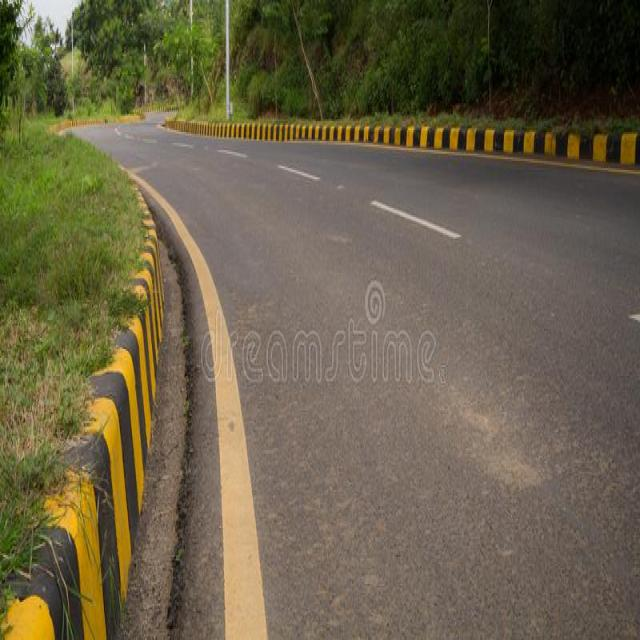Clean road: (49, 135, 640, 640)
